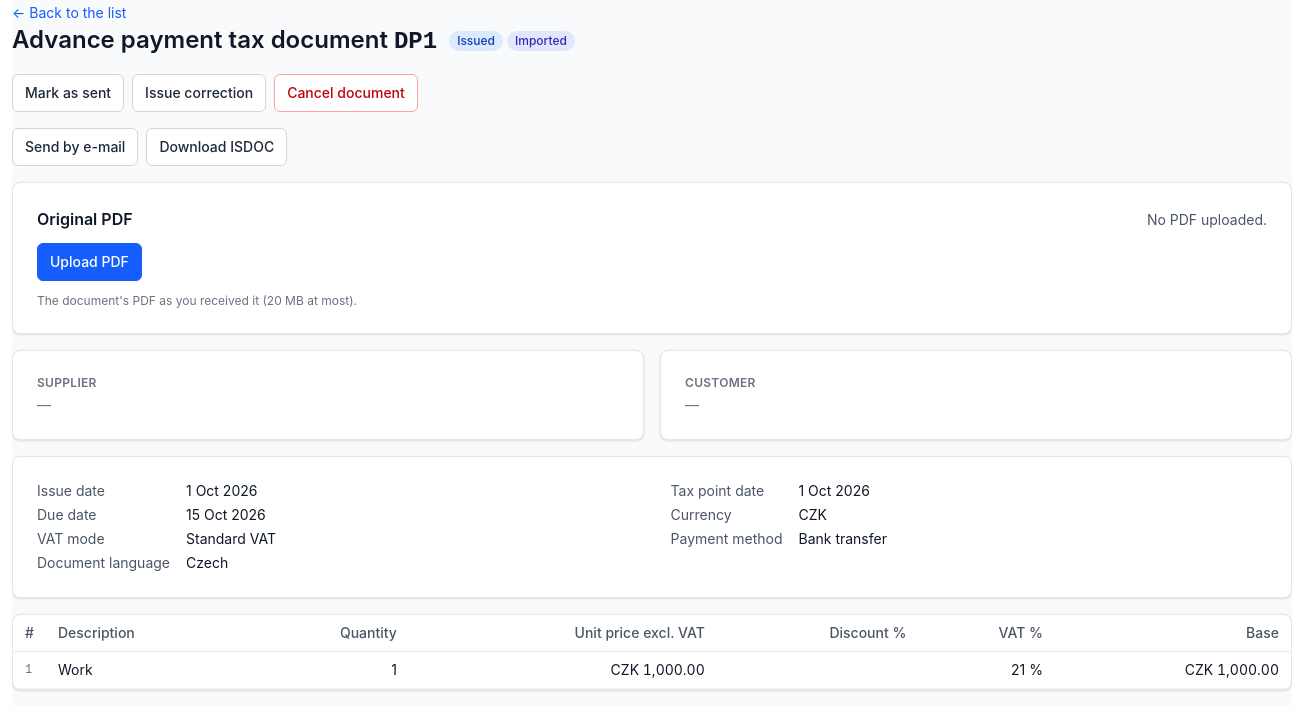
correction actions (1f-a) › cancelling an imported DDPP refused with 409 advance_settled names the causes
Step 1. Click the button with test id "cancel" → click(346, 93), box [274, 74, 418, 112]
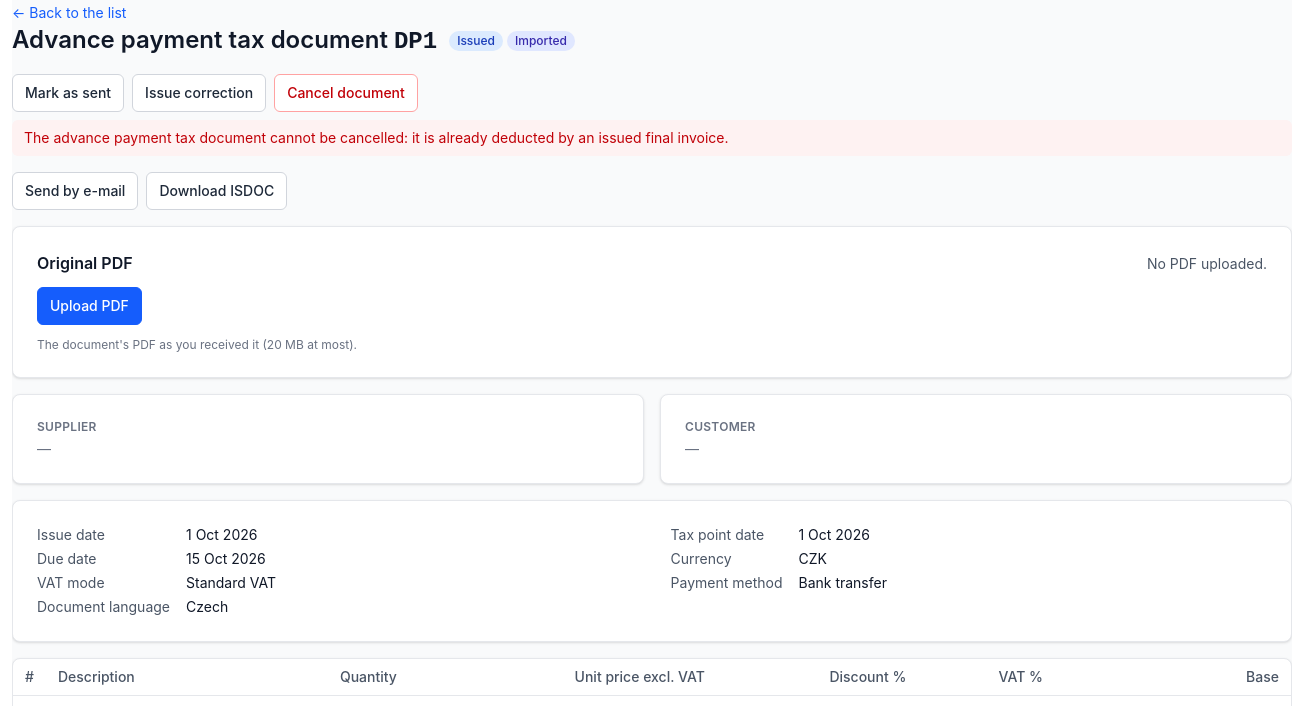
Expected: the message with test id "action-error" shows "cannot be cancelled", [24, 129, 729, 146]
Expected: the message with test id "action-error" shows "issued final invoice", [24, 129, 729, 146]
